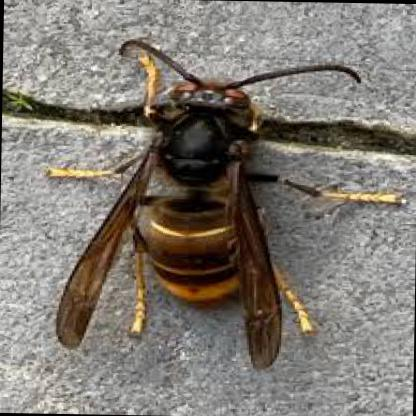asian: (58, 36, 400, 398)
